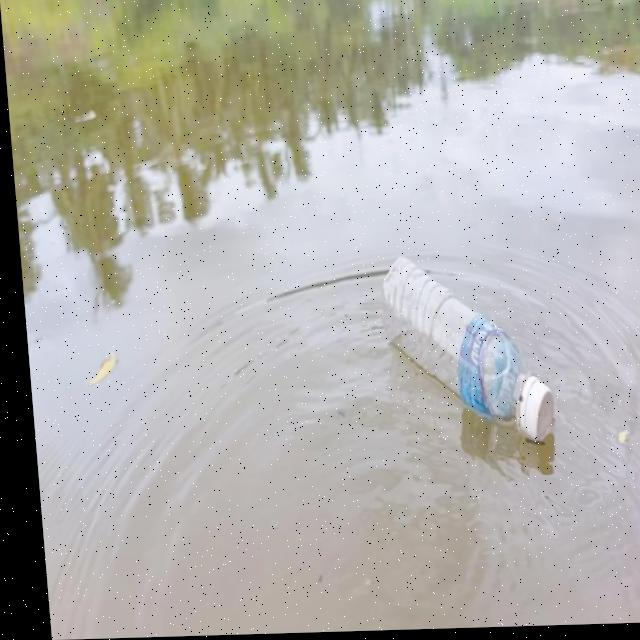waterbottle: (368, 249, 567, 461)
